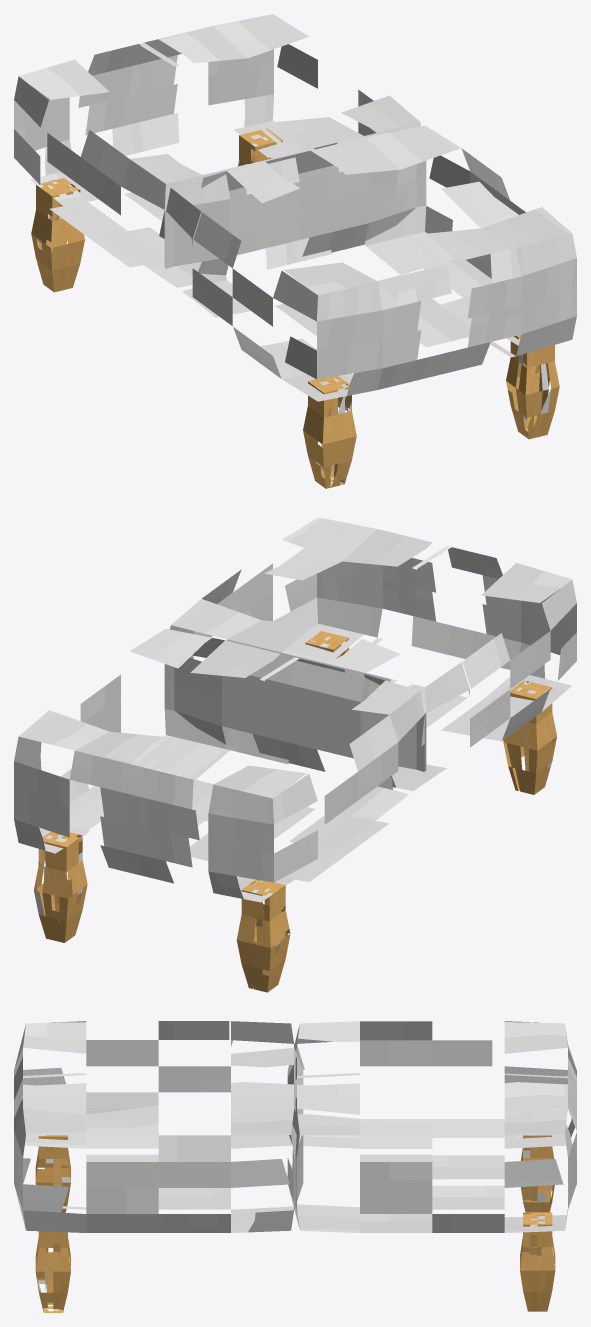
File: simple_middle_footstool.obj
3 renders of one model, top to bottom at view 1: azimuth 30°, elevation 25°; view 2: azimuth 150°, elevation 25°; view 3: azimuth 270°, elevation 25°, orthographic. The views are drawn at different scales.
Visible parts, largest first — view 1: Cube.004; view 2: Cube.004; view 3: Cube.004.
Part boxes in pixels (box(x1,y1,x2,y2)): Cube.004: box(14, 14, 576, 488); Cube.004: box(14, 517, 576, 992); Cube.004: box(14, 1021, 576, 1312).
Bounding box in the file's own units: 1.51 × 1.09 × 2.94.
